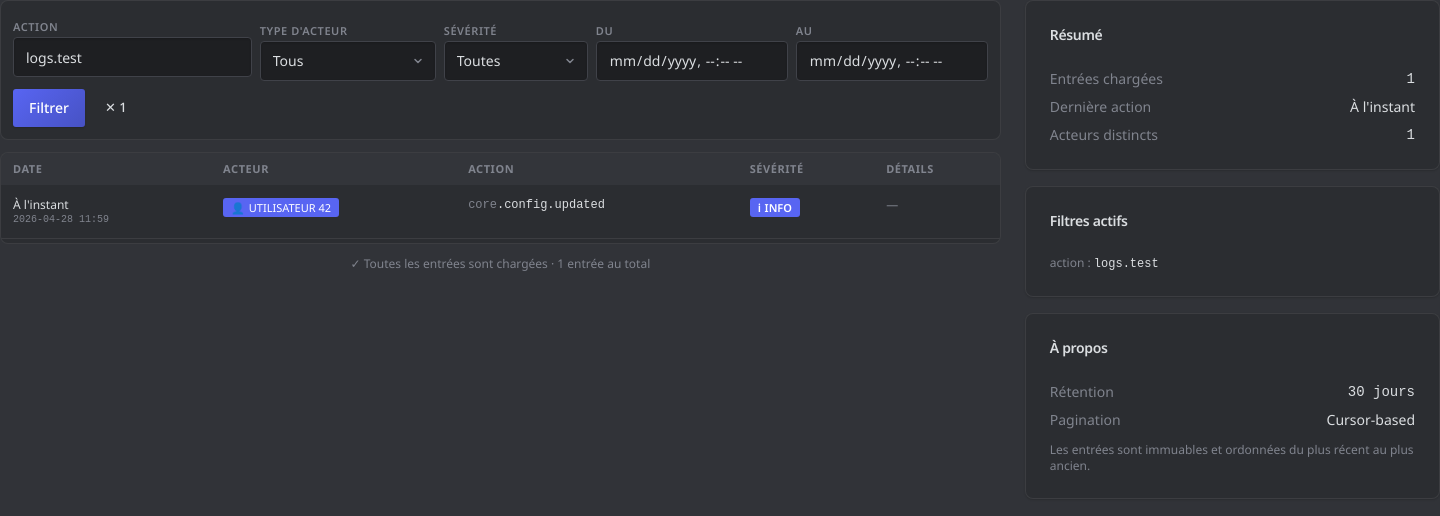
Test: AuditView › réinitialisation : ✕ vide les filtres et appelle loadAuditPage sans filtre
The width and height of the screenshot is (1440, 516).
Note: 1 filtre actif → bouton ✕ visible
Click the button named "Réinitialiser".
click(116, 108)  # box [93,92,139,124]
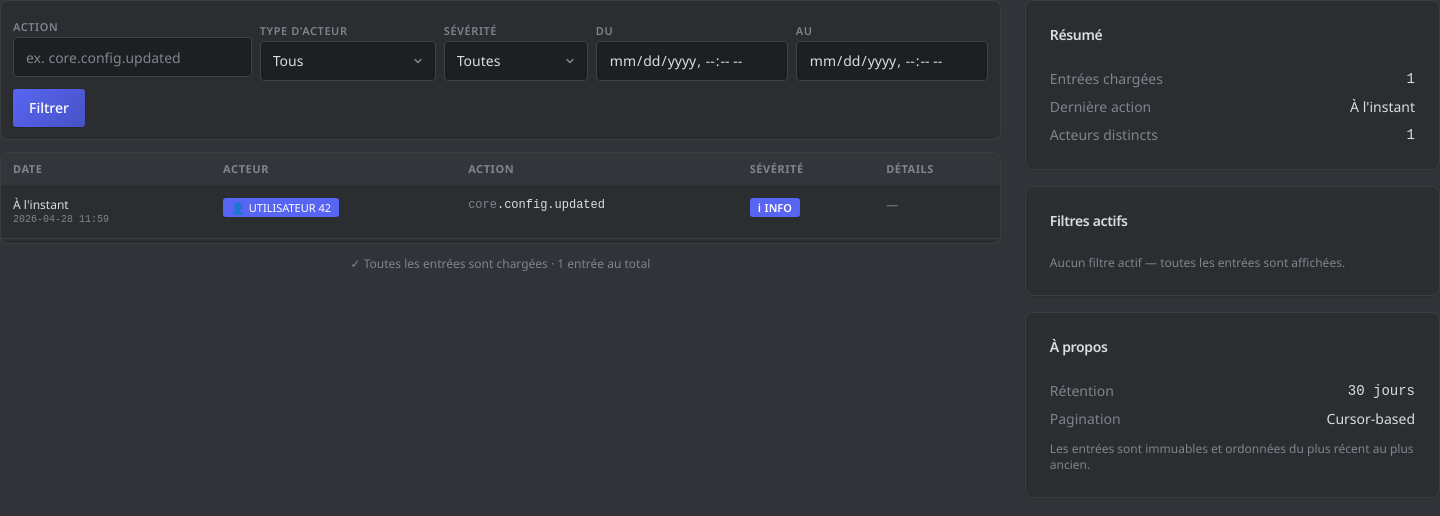
Result: the field labelled "Action" is empty at [13,37,252,77]
